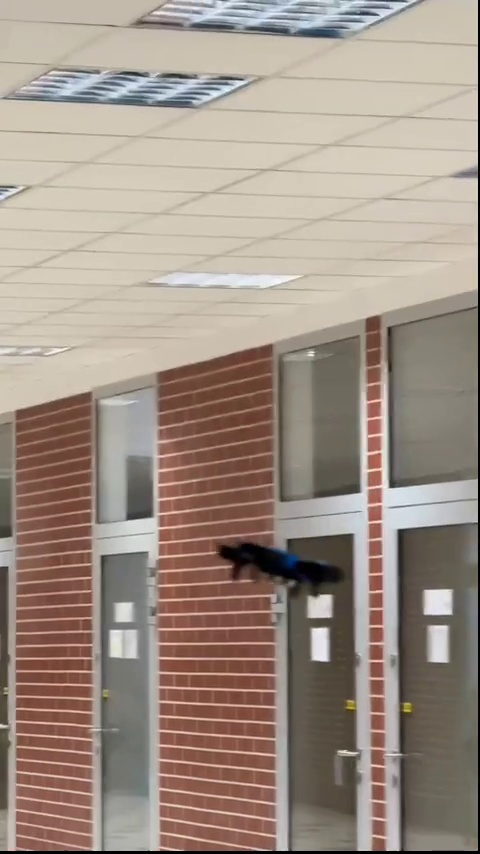drone: (216, 539, 352, 591)
